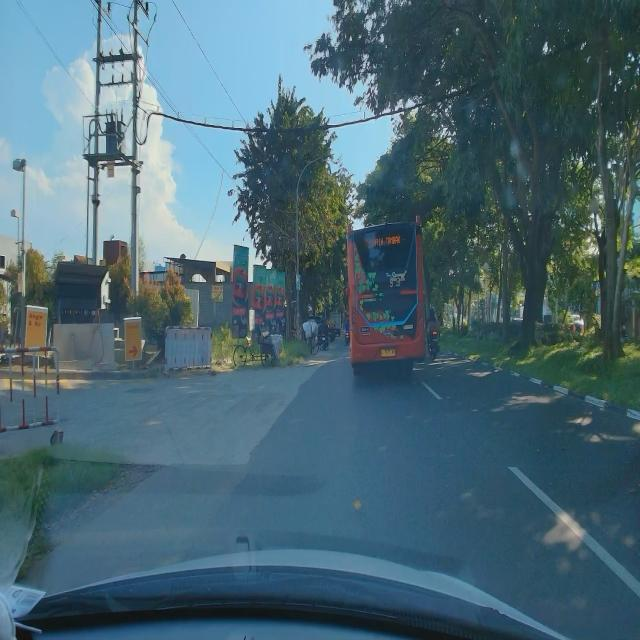bus: (346, 213, 427, 378)
license-plate: (380, 348, 396, 357)
